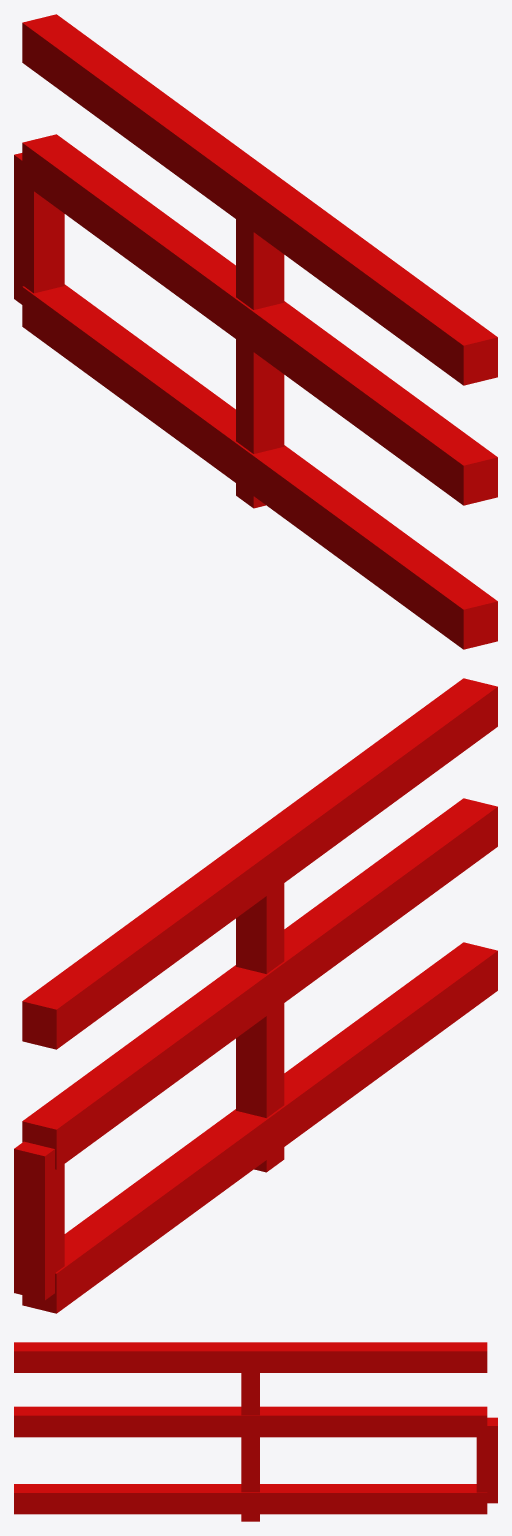
File: fence.gltf
The picture shows the model from 3 angles, top to bottom: view 1: azimuth 30°, elevation 25°; view 2: azimuth 150°, elevation 25°; view 3: azimuth 270°, elevation 25°; orthographic projection. The views are drawn at different scales.
Visible parts, largest first — view 1: Cube.004, Cube.002, Cube.003, Cube.001, Cube.005; view 2: Cube.004, Cube.002, Cube.003, Cube.001, Cube.005; view 3: Cube.002, Cube.004, Cube.003, Cube.001, Cube.005.
Part boxes in pixels (bbox=[...]): Cube.004: bbox=[22, 14, 497, 385]; Cube.002: bbox=[22, 134, 497, 505]; Cube.003: bbox=[22, 284, 497, 649]; Cube.001: bbox=[236, 219, 284, 508]; Cube.005: bbox=[14, 153, 64, 304]; Cube.004: bbox=[22, 678, 497, 1049]; Cube.002: bbox=[22, 798, 497, 1169]; Cube.003: bbox=[22, 942, 497, 1313]; Cube.001: bbox=[236, 883, 284, 1172]; Cube.005: bbox=[14, 1141, 64, 1300]; Cube.002: bbox=[14, 1406, 487, 1437]; Cube.004: bbox=[14, 1342, 487, 1372]; Cube.003: bbox=[14, 1484, 487, 1514]; Cube.001: bbox=[241, 1373, 259, 1521]; Cube.005: bbox=[476, 1417, 497, 1503].
Bounding box in the file's own units: 0.09 × 0.7958 × 2.04.
